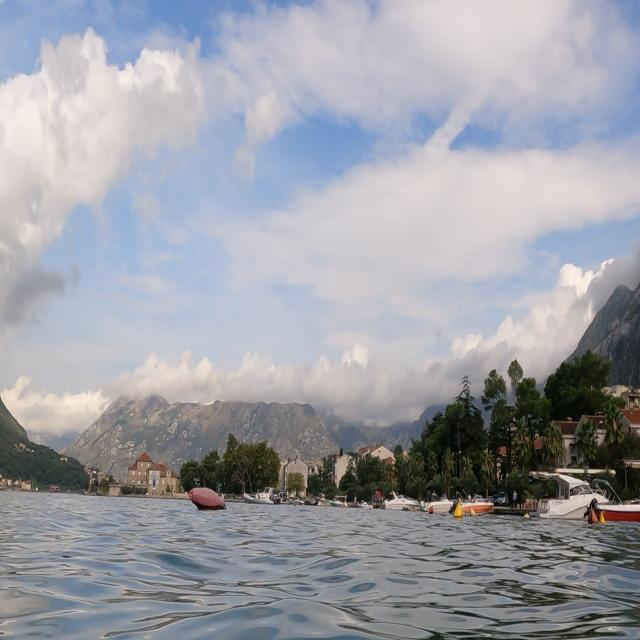boat: (528, 459, 612, 525), (587, 462, 640, 526), (448, 487, 497, 523), (377, 481, 427, 515), (239, 474, 290, 506), (421, 486, 460, 518)
buoy: (183, 475, 230, 519)
